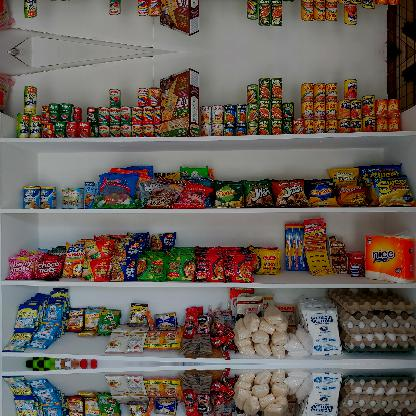Koko-Krunch: (160, 67, 200, 136), (160, 0, 200, 37)
